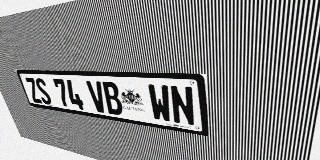4: (64, 79, 85, 110)
7: (52, 79, 72, 108)
B: (101, 81, 124, 116)
N: (169, 85, 196, 127)
S: (34, 78, 53, 105)
V: (86, 81, 108, 113)
W: (147, 84, 173, 123)
Z: (24, 77, 43, 104)
